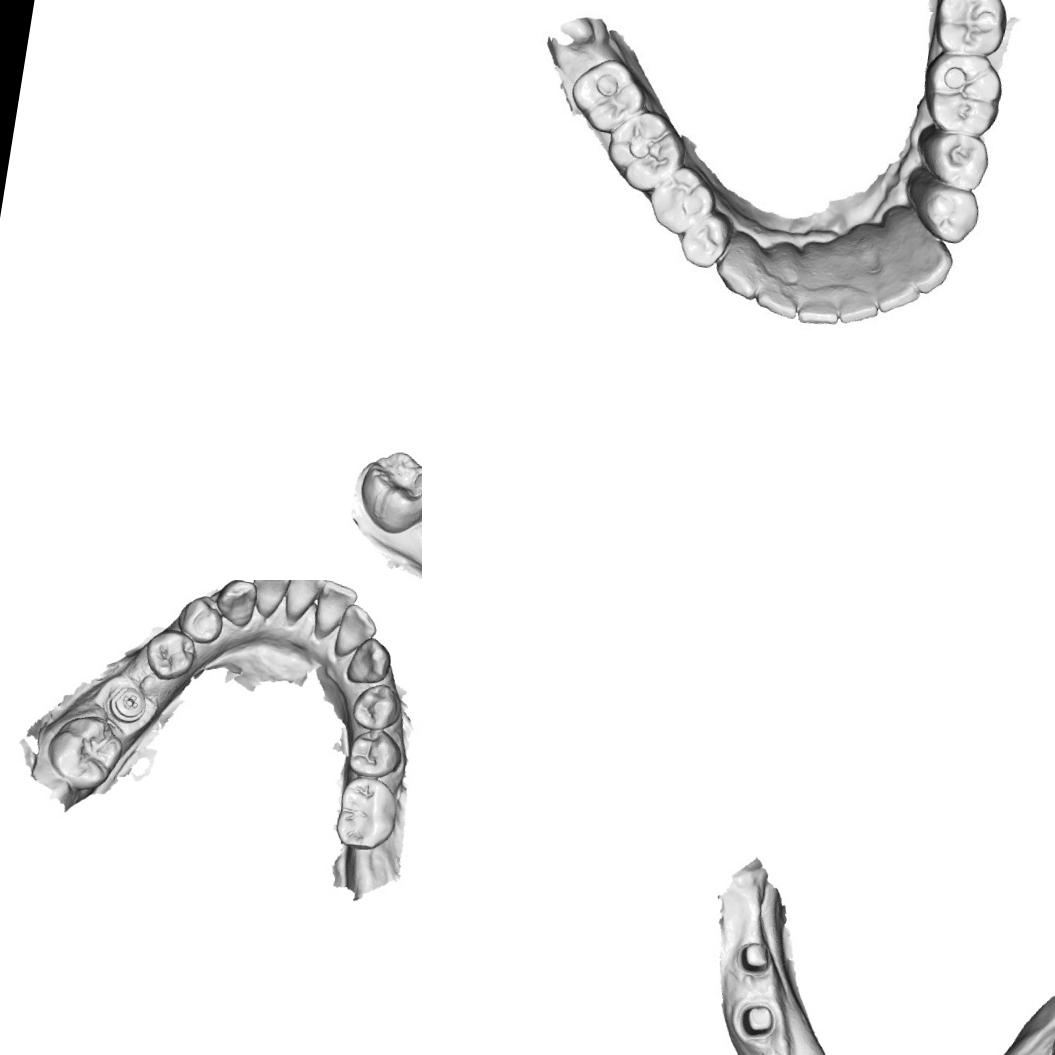abutment: (734, 996, 781, 1044), (732, 938, 776, 980)
canine: (709, 231, 768, 305), (897, 230, 957, 296), (344, 632, 396, 688), (210, 580, 260, 631)
implant_plus: (104, 680, 150, 726)
incisor: (830, 273, 891, 330), (753, 262, 808, 323), (331, 599, 382, 661), (872, 266, 930, 318), (310, 580, 360, 639), (795, 272, 846, 328), (281, 580, 330, 624), (245, 580, 291, 622)
molar: (916, 48, 1007, 142), (40, 707, 129, 798), (565, 55, 650, 140), (604, 108, 686, 190), (353, 445, 422, 541), (330, 772, 404, 856), (931, 0, 1014, 61)
premolar: (920, 180, 984, 248), (925, 130, 992, 192), (649, 170, 716, 232), (343, 722, 406, 782), (676, 210, 732, 272), (142, 626, 201, 684), (348, 678, 408, 734), (173, 591, 228, 648)
